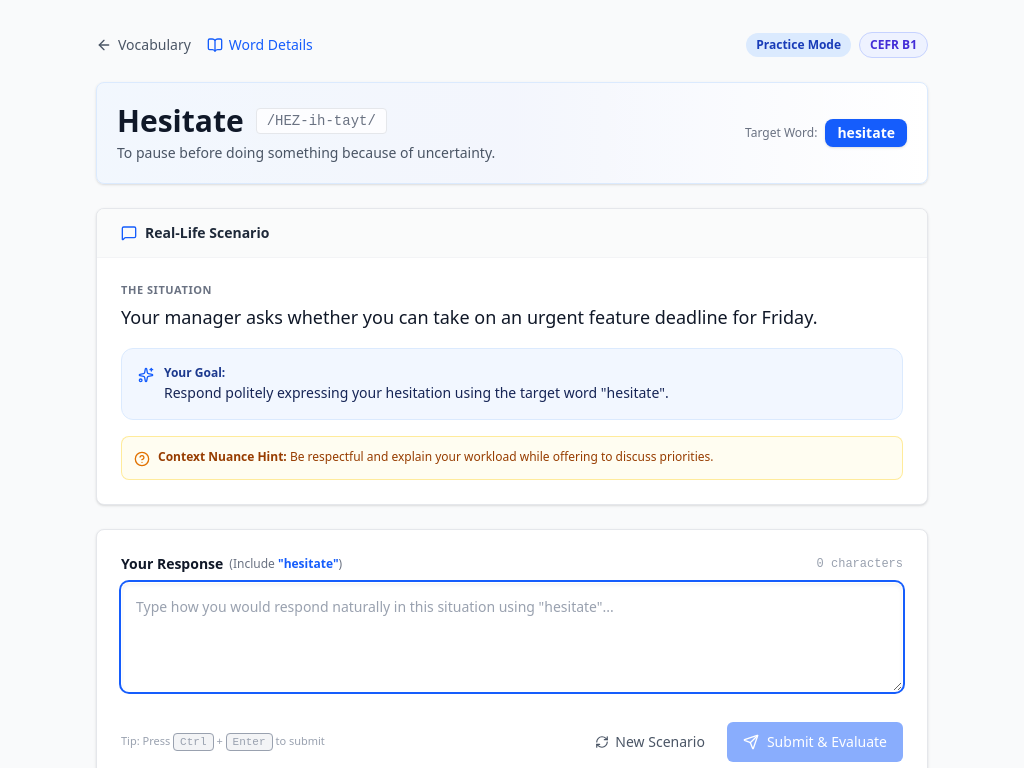
Test: PracticePage › allows requesting a new scenario in the session
What coordinates should you click on to do the following:
click the button "New Scenario"
I would click on:
 (650, 742)
Its box is [583,726,717,758].
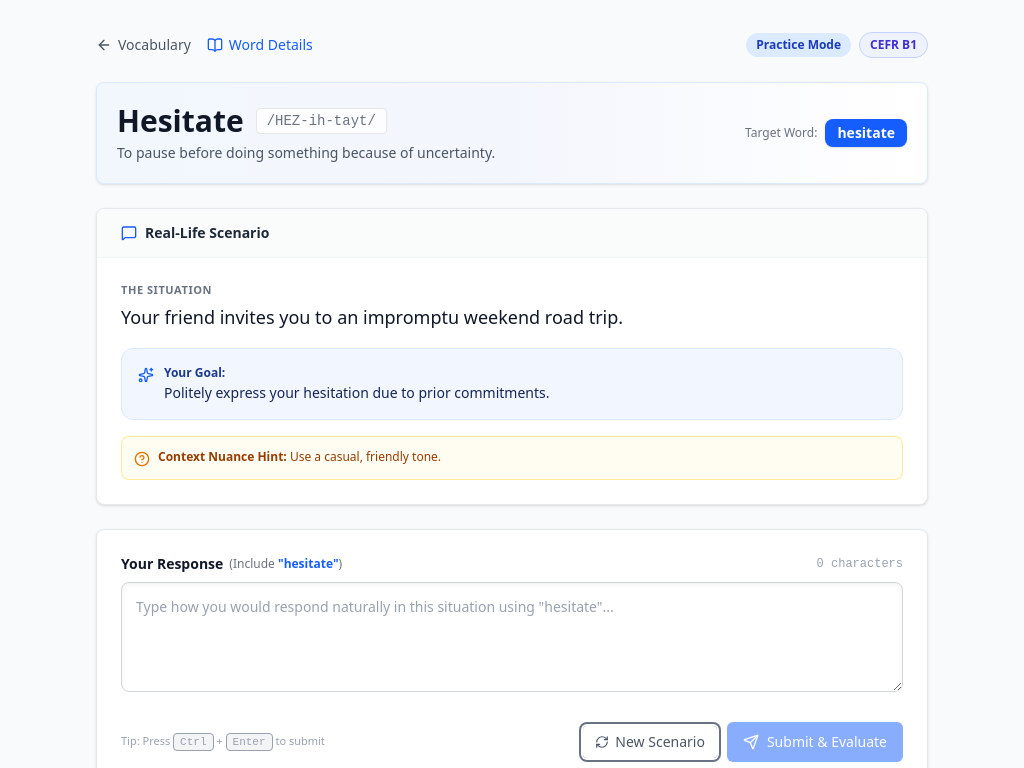
Expected: the text "Your friend invites you to an impromptu weekend road trip." is shown, [121,304,623,328]
